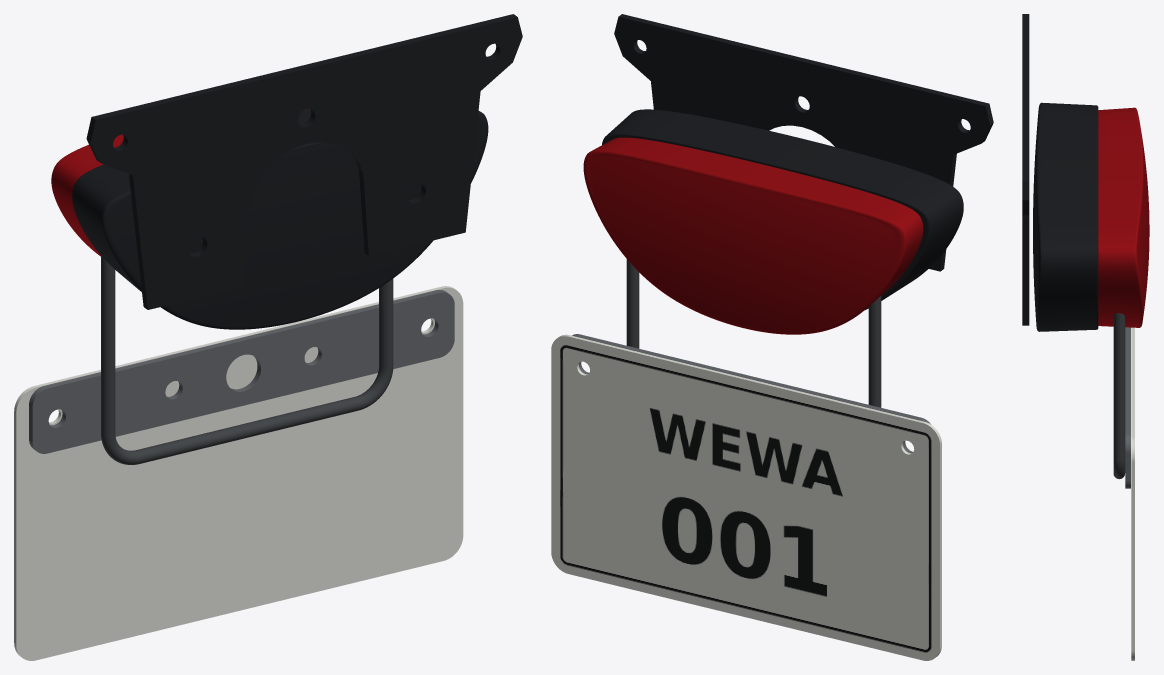
File: rear-cluster-review-v2.glb
3 views of the same model, side by side, from view 1: azimuth 30°, elevation 25°; view 2: azimuth 150°, elevation 25°; view 3: azimuth 270°, elevation 25° (orthographic). The views are drawn at different scales.
Parts seen in each view (by area): view 1: MOTO-LICENSE-PLATE-WEWA-001, MOTO-TAIL-LAMP-UPPER-BRACKET-001, MOTO-TAIL-LAMP-BLACK-HOUSING-001, MOTO-REAR-PLATE-CARRIER-CROSSBAR-001, MOTO-REAR-PLATE-CARRIER-WIRE-001, MOTO-TAIL-LAMP-OUTER-LENS-001; view 2: MOTO-LICENSE-PLATE-WEWA-001, MOTO-TAIL-LAMP-OUTER-LENS-001, MOTO-TAIL-LAMP-UPPER-BRACKET-001, MOTO-TAIL-LAMP-BLACK-HOUSING-001, MOTO-REAR-PLATE-CARRIER-WIRE-001, MOTO-REAR-PLATE-CARRIER-CROSSBAR-001; view 3: MOTO-TAIL-LAMP-BLACK-HOUSING-001, MOTO-TAIL-LAMP-OUTER-LENS-001, MOTO-TAIL-LAMP-UPPER-BRACKET-001, MOTO-REAR-PLATE-CARRIER-WIRE-001, MOTO-LICENSE-PLATE-WEWA-001, MOTO-REAR-PLATE-CARRIER-CROSSBAR-001.
Boxes of the visible parts, x1,y1,x2,y2 form: MOTO-LICENSE-PLATE-WEWA-001: (14,286,463,660); MOTO-TAIL-LAMP-UPPER-BRACKET-001: (86,14,522,309); MOTO-TAIL-LAMP-BLACK-HOUSING-001: (72,108,488,329); MOTO-REAR-PLATE-CARRIER-CROSSBAR-001: (29,290,454,453); MOTO-REAR-PLATE-CARRIER-WIRE-001: (101,256,393,464); MOTO-TAIL-LAMP-OUTER-LENS-001: (51,108,307,256); MOTO-LICENSE-PLATE-WEWA-001: (551,334,941,660); MOTO-TAIL-LAMP-OUTER-LENS-001: (583,137,923,334); MOTO-TAIL-LAMP-UPPER-BRACKET-001: (614,14,993,271); MOTO-TAIL-LAMP-BLACK-HOUSING-001: (602,109,963,309); MOTO-REAR-PLATE-CARRIER-WIRE-001: (626,259,881,407); MOTO-REAR-PLATE-CARRIER-CROSSBAR-001: (572,334,930,453); MOTO-TAIL-LAMP-BLACK-HOUSING-001: (1033,102,1098,331); MOTO-TAIL-LAMP-OUTER-LENS-001: (1098,107,1149,327); MOTO-TAIL-LAMP-UPPER-BRACKET-001: (1022,14,1029,325); MOTO-REAR-PLATE-CARRIER-WIRE-001: (1113,313,1125,479); MOTO-LICENSE-PLATE-WEWA-001: (1131,327,1134,660); MOTO-REAR-PLATE-CARRIER-CROSSBAR-001: (1125,327,1130,488).
Size of the model in its own units: 0.18 by 0.2275 by 0.0545.
7 materials, 1 textured.
